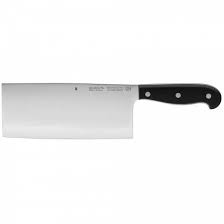knife: (1, 81, 224, 141)
